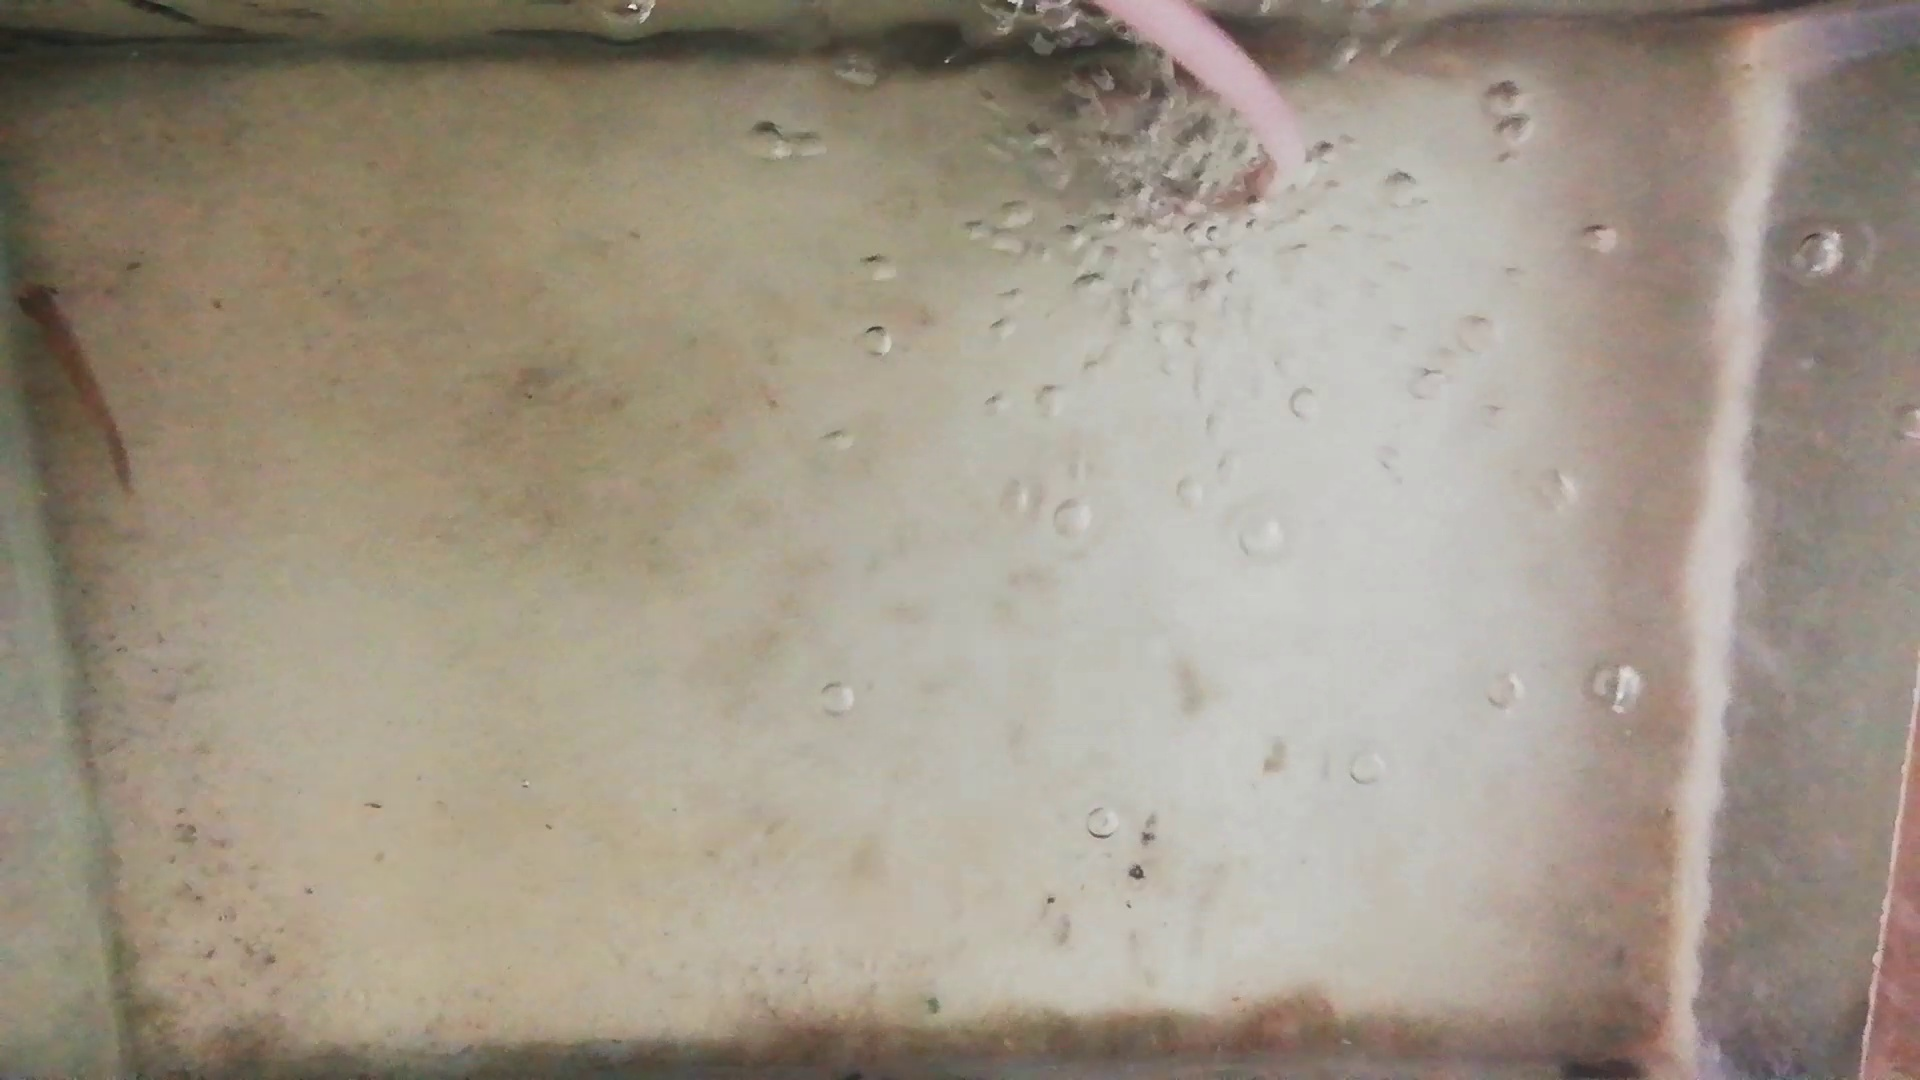fish: (15, 276, 131, 488)
